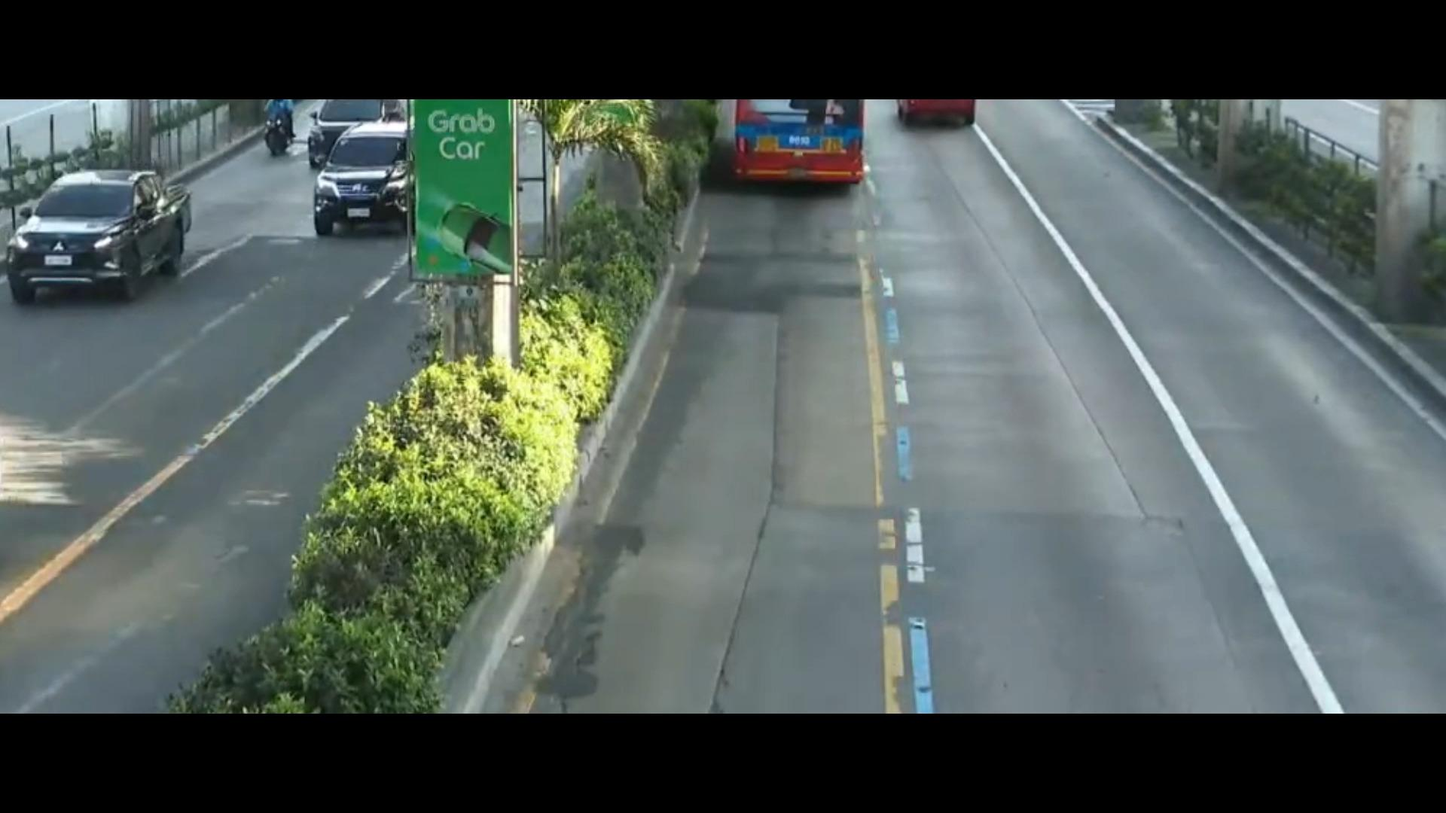Bus: (721, 95, 885, 192)
Motorcycle: (255, 102, 300, 157)
Pickup: (0, 145, 192, 325)
SUV: (290, 126, 417, 238)
